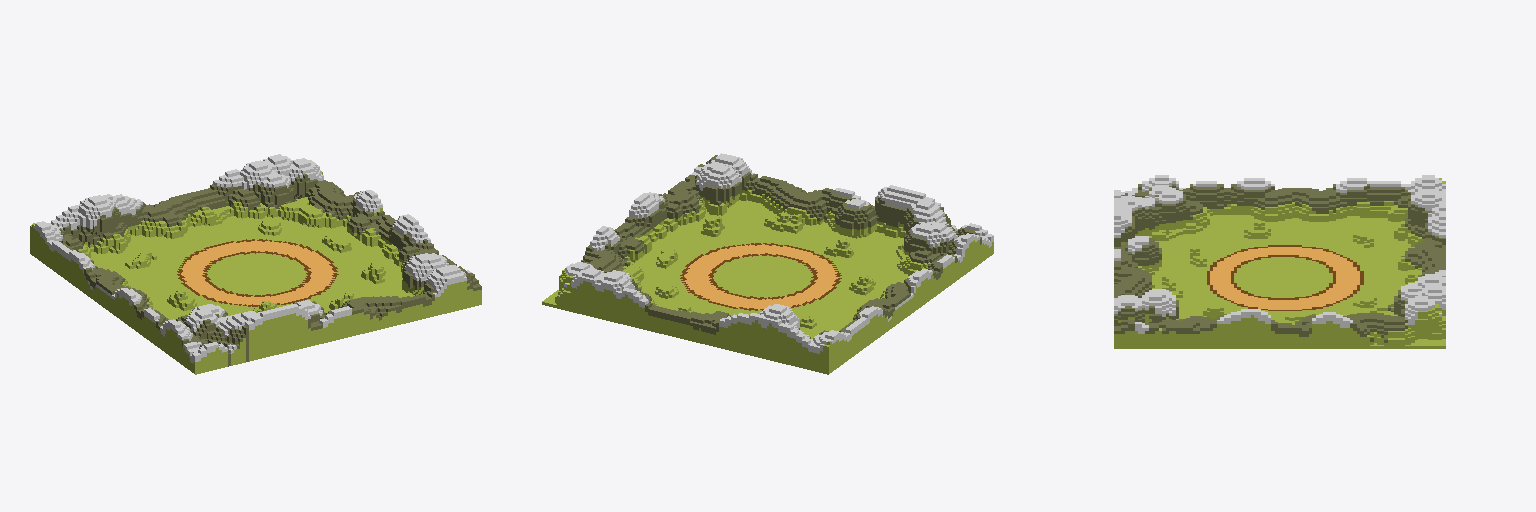
3 views of the same model, side by side, from view 1: azimuth 30°, elevation 25°; view 2: azimuth 150°, elevation 25°; view 3: azimuth 270°, elevation 25° (orthographic).
Size of the model in its own units: 97 by 15 by 97.
1 materials, 1 textured.